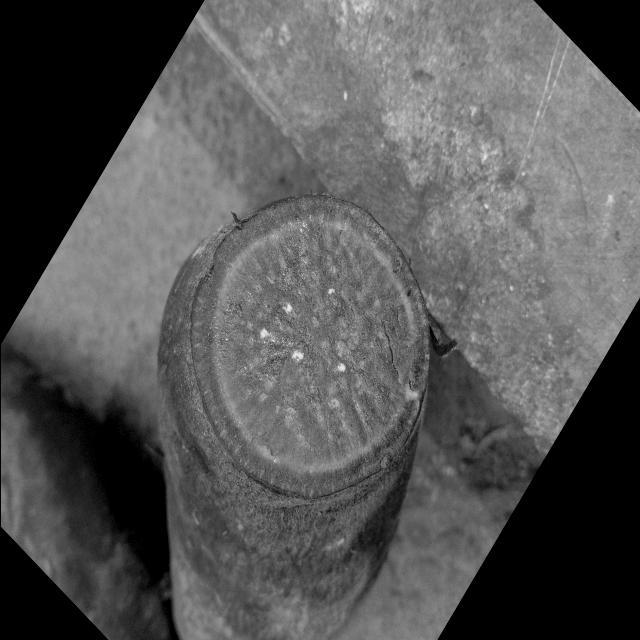Healthy Sweet Potato: (190, 195, 429, 498)
